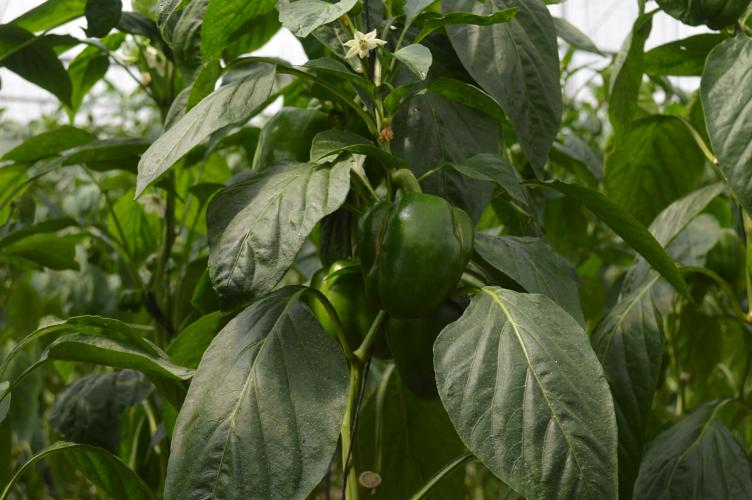BellPepper: (359, 192, 473, 312), (381, 297, 474, 405), (315, 259, 388, 357), (256, 107, 339, 166)
